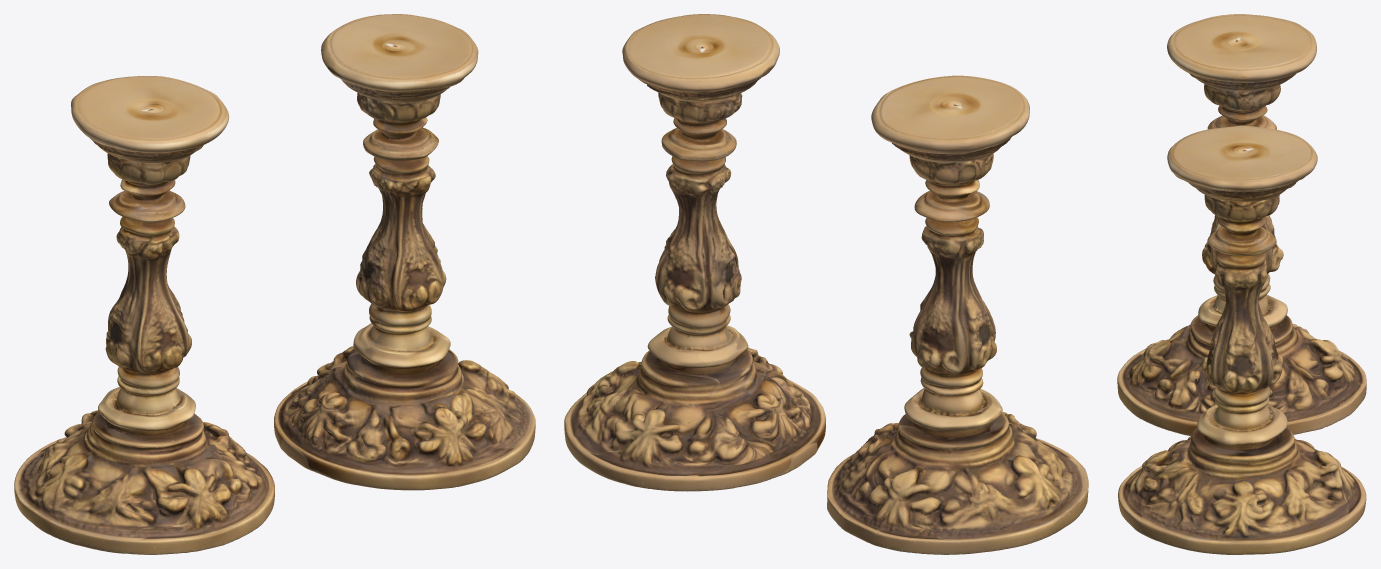
Rendered from CandlestickPair.glb.
The picture shows the model from 3 angles, left to right: view 1: azimuth 30°, elevation 25°; view 2: azimuth 150°, elevation 25°; view 3: azimuth 270°, elevation 25°; orthographic projection. The views are drawn at different scales.
Size of the model in its own units: 2 by 1.54 by 0.9888.
Materials: 1 (1 with a texture image).
